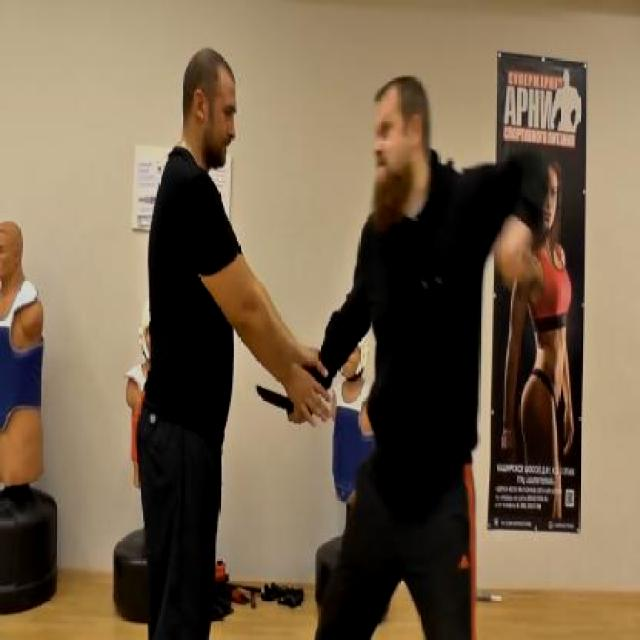knife: (254, 380, 317, 428)
